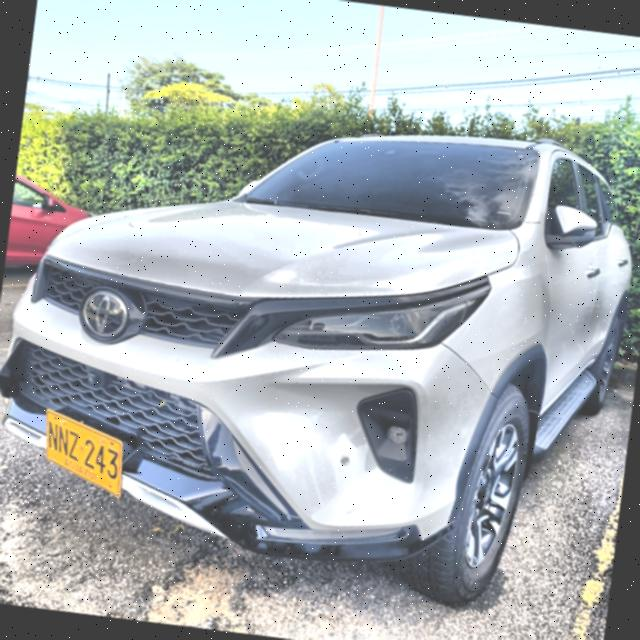2: (83, 435, 97, 471)
3: (105, 445, 119, 481)
4: (93, 442, 107, 475)
N: (57, 424, 69, 457), (48, 419, 59, 452)
Z: (67, 428, 81, 462)
